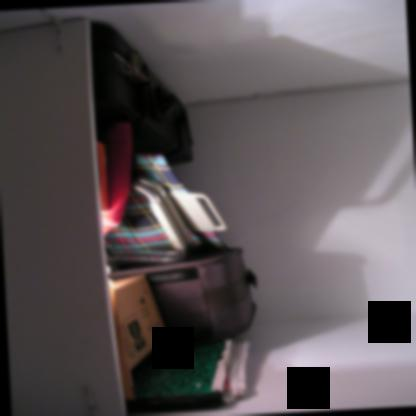suitcase: (89, 18, 190, 164)
